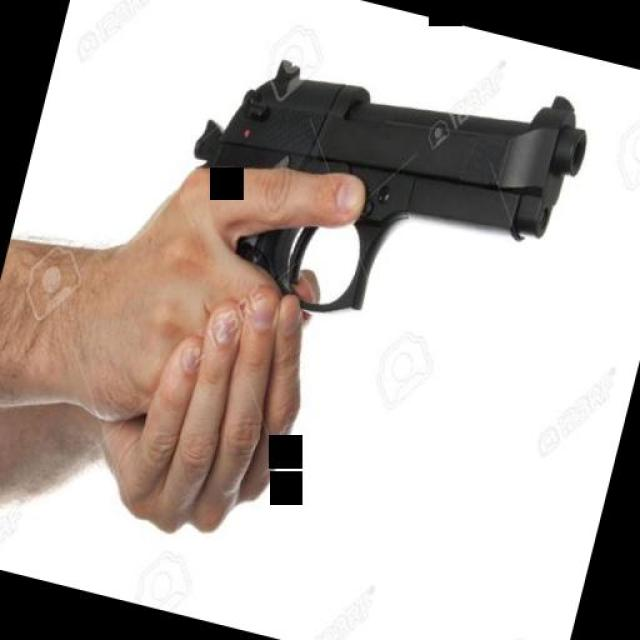gun: (150, 4, 598, 380)
